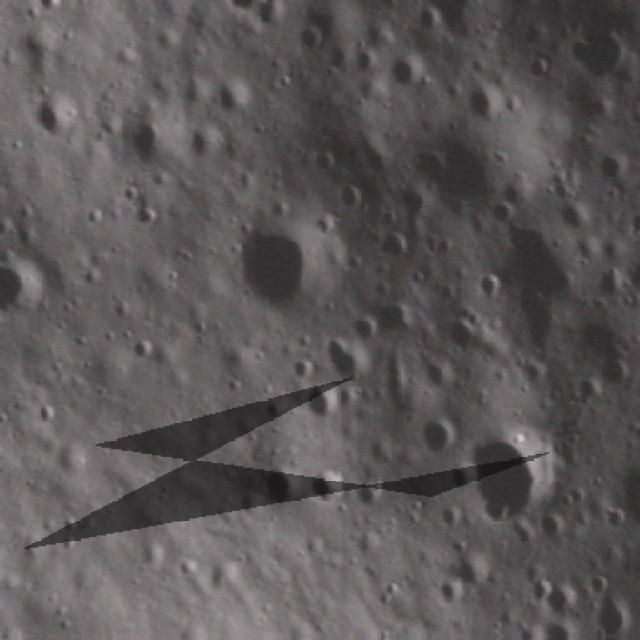crater: (223, 210, 337, 327), (464, 423, 562, 537), (318, 336, 388, 406), (121, 116, 187, 182), (566, 18, 632, 84), (355, 300, 430, 354), (458, 76, 508, 142), (257, 460, 305, 526), (34, 92, 86, 146), (415, 409, 462, 460), (382, 48, 424, 102), (212, 76, 256, 124), (310, 466, 352, 516), (541, 583, 587, 626), (592, 600, 636, 640), (373, 225, 412, 267), (355, 468, 390, 514), (330, 177, 368, 218), (436, 576, 472, 612), (348, 45, 384, 81), (473, 274, 505, 314), (291, 25, 326, 60), (128, 336, 160, 370), (415, 6, 447, 40), (529, 56, 554, 86)
